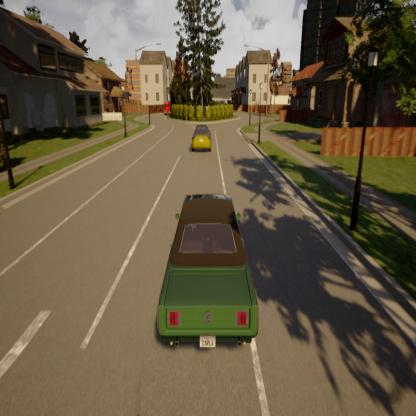Cars: (148, 187, 262, 359), (191, 122, 213, 154), (162, 100, 171, 118)
